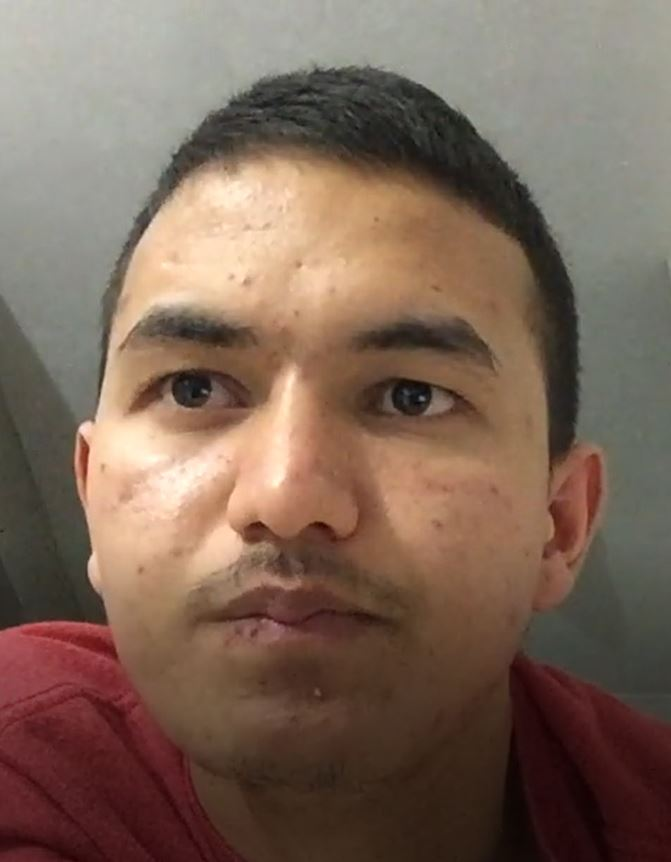Not Sleeping: (99, 302, 531, 455)
